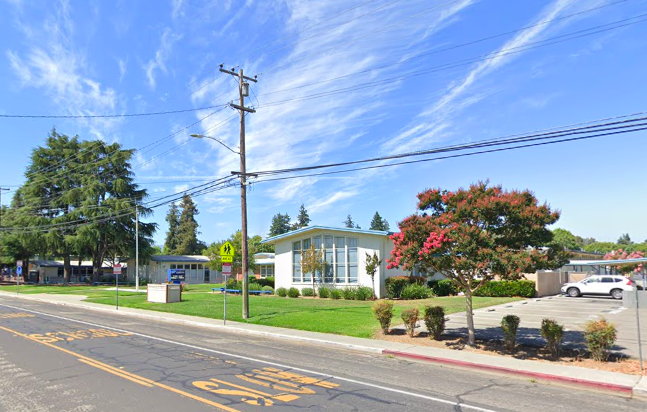tree: (384, 176, 575, 346), (10, 126, 159, 284)
utility_pole: (214, 56, 263, 128)
